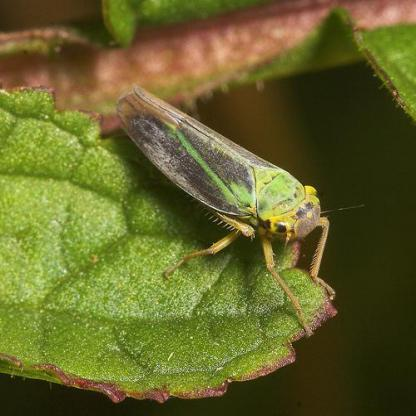Green-Leafhopper: (117, 78, 336, 331)
